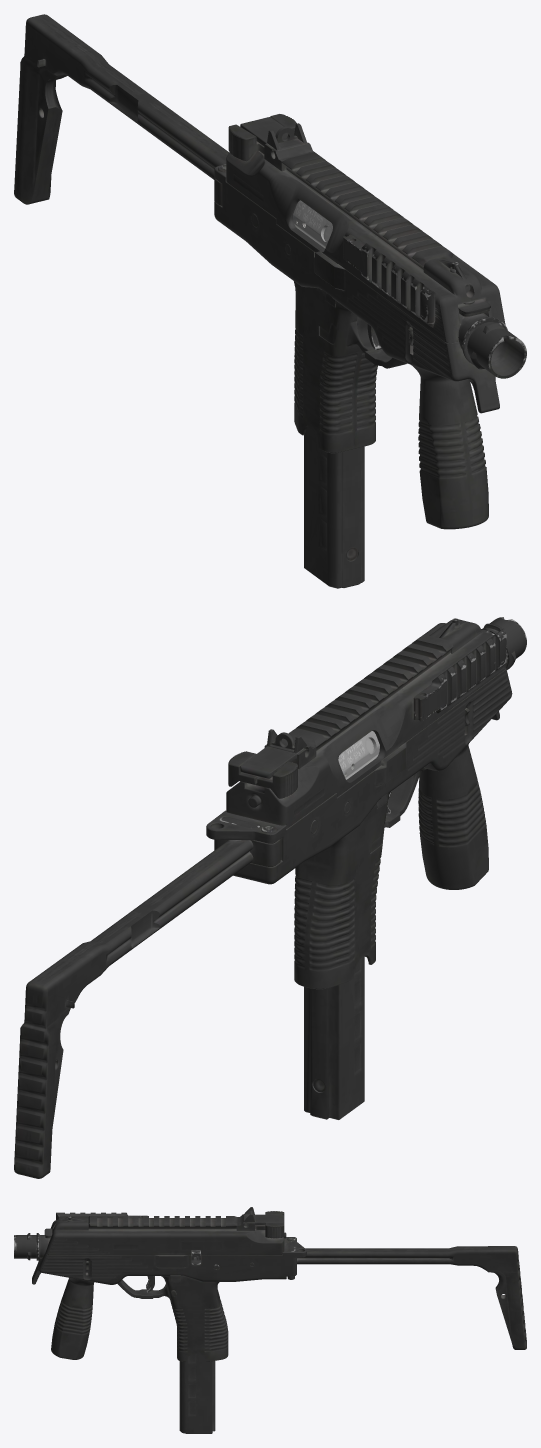
3 views of the same model, one above another, from view 1: azimuth 30°, elevation 25°; view 2: azimuth 150°, elevation 25°; view 3: azimuth 270°, elevation 25° (orthographic). The views are drawn at different scales.
Visible parts, largest first — view 1: MP9_CS2_weapon_smg_mp9_0; view 2: MP9_CS2_weapon_smg_mp9_0; view 3: MP9_CS2_weapon_smg_mp9_0.
Boxes of the visible parts, box(x1,y1,x2,y2) form: MP9_CS2_weapon_smg_mp9_0: box(14, 14, 526, 588); MP9_CS2_weapon_smg_mp9_0: box(14, 617, 526, 1178); MP9_CS2_weapon_smg_mp9_0: box(14, 1207, 526, 1433).
Size of the model in its own units: 0.0512 by 0.2649 by 0.5631.
Materials: 1 (1 with a texture image).
